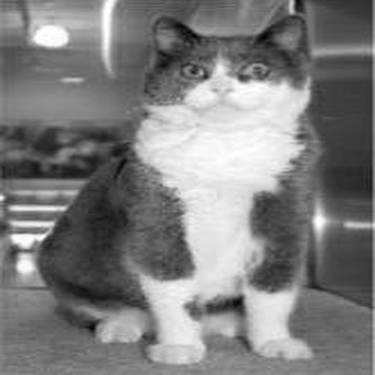cat: (28, 12, 323, 344)
